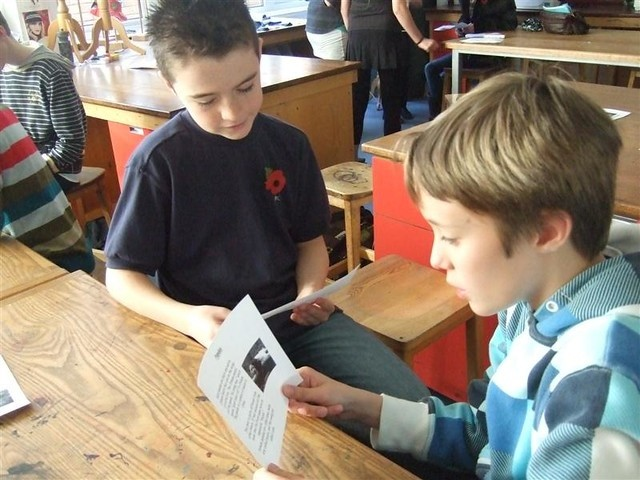face_no_mask: (405, 77, 618, 317), (149, 4, 264, 140)
